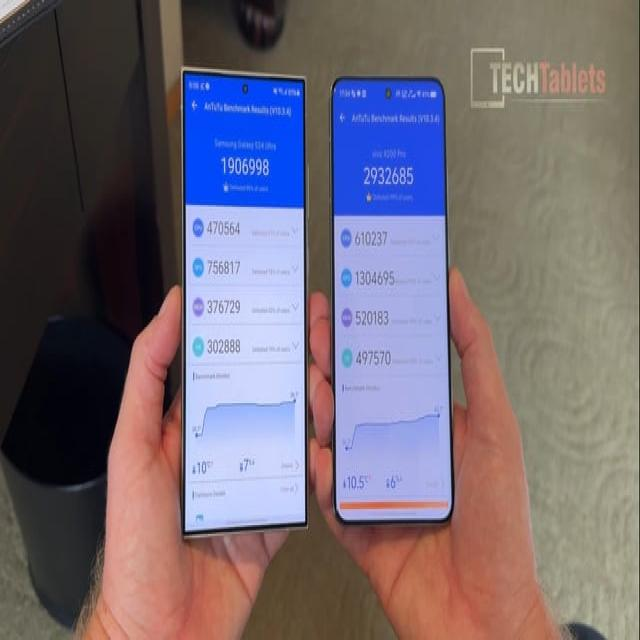mobile_phone: (169, 51, 311, 557), (317, 60, 457, 536)
